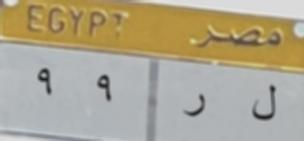9: (92, 69, 119, 106), (34, 62, 56, 100)
laam: (250, 78, 281, 127)
raa: (183, 87, 207, 124)
